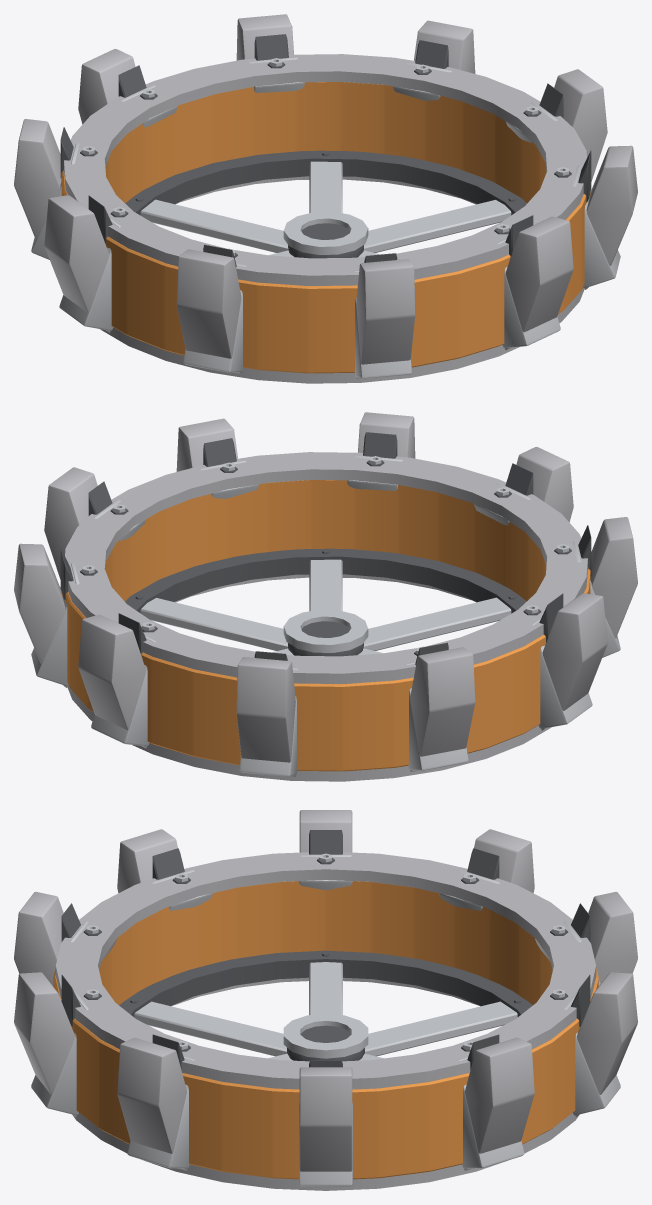
The model's file is vortex_spinner.glb.
The picture shows the model from 3 angles, top to bottom: view 1: azimuth 30°, elevation 25°; view 2: azimuth 150°, elevation 25°; view 3: azimuth 270°, elevation 25°; orthographic projection. The views are drawn at different scales.
Visible parts, largest first — view 1: body; view 2: body; view 3: body.
Part boxes in pixels (box(x1,y1,x2,y2)): body: box(14, 14, 637, 383); body: box(14, 412, 637, 781); body: box(14, 810, 637, 1190).
Bounding box in the file's own units: 0.9714 × 0.2248 × 0.9468.
